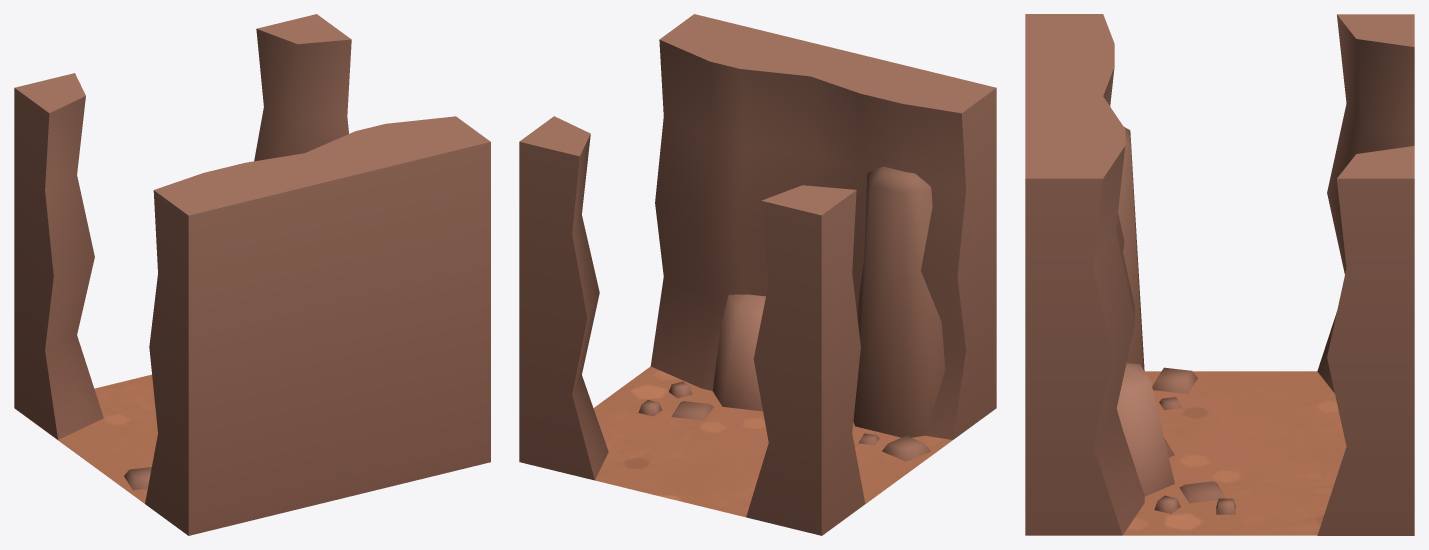
Rendered from corridor-junction.glb.
3 renders of one model, left to right at view 1: azimuth 30°, elevation 25°; view 2: azimuth 150°, elevation 25°; view 3: azimuth 270°, elevation 25°, orthographic. The views are drawn at different scales.
Parts seen in each view (by area): view 1: corridor-junction; view 2: corridor-junction; view 3: corridor-junction.
Boxes of the visible parts, box(x1,y1,x2,y2) form: corridor-junction: box(14, 14, 490, 535); corridor-junction: box(519, 14, 996, 535); corridor-junction: box(1025, 14, 1414, 535).
Size of the model in its own units: 4.01 by 4.05 by 4.
Materials: 1 (1 with a texture image).
